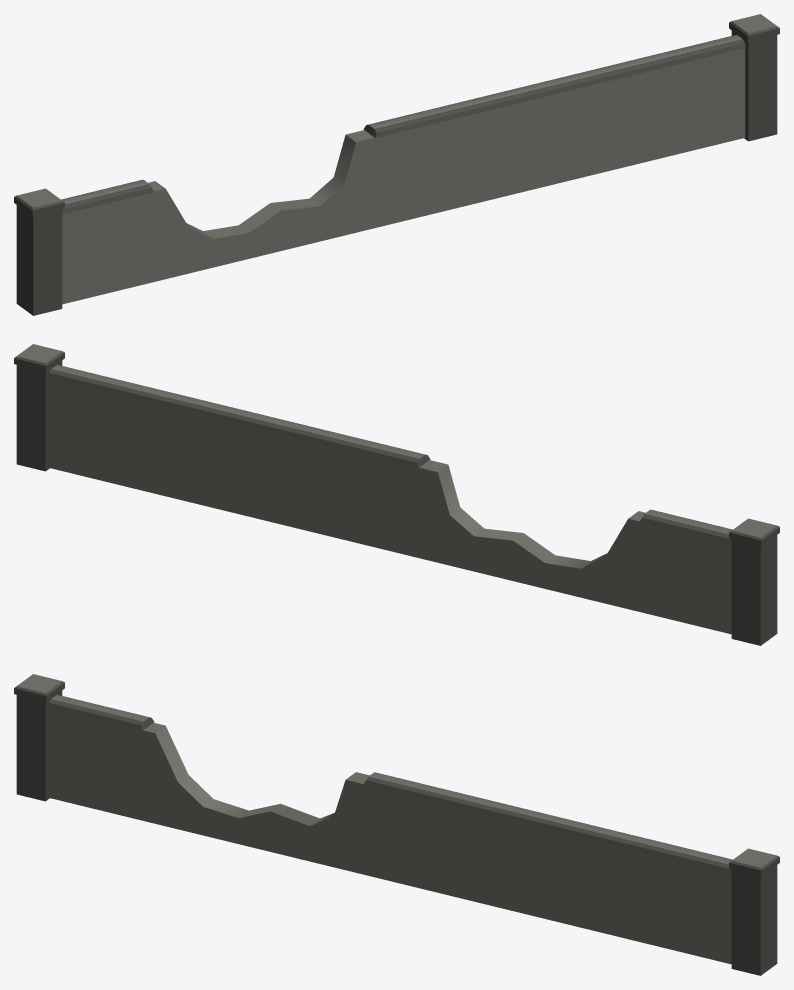
The model's file is wall_1.FBX.
3 views of the same model, one above another, from view 1: azimuth 30°, elevation 25°; view 2: azimuth 150°, elevation 25°; view 3: azimuth 330°, elevation 25° (orthographic).
Parts seen in each view (by area): view 1: wall_1; view 2: wall_1; view 3: wall_1.
Boxes of the visible parts, <box> form: wall_1: <box>14,14,779,315</box>; wall_1: <box>14,344,779,645</box>; wall_1: <box>14,674,779,975</box>.
Bounding box in the file's own units: 8.45 × 1.17 × 0.3635.
1 material, 1 textured.
